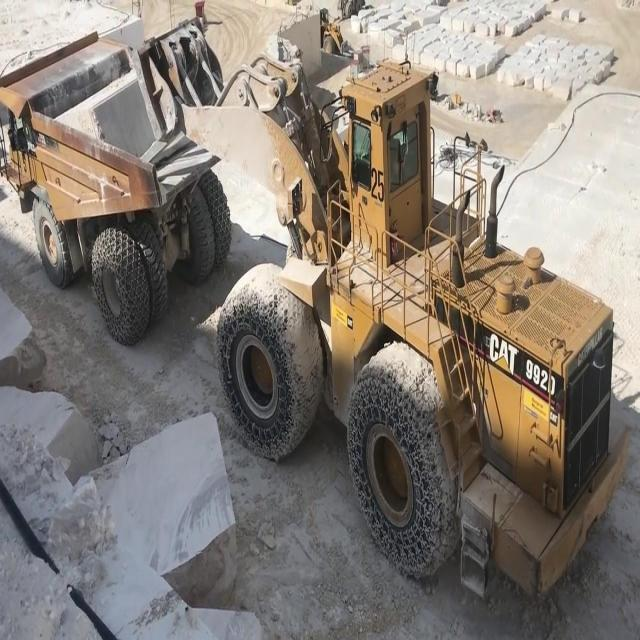buldozerpayloadergrader: (133, 14, 627, 591)
dump_truck: (0, 32, 230, 341)
